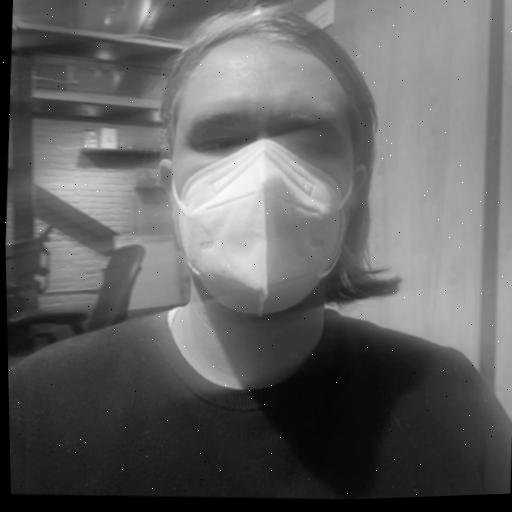mask: (122, 0, 412, 323)
